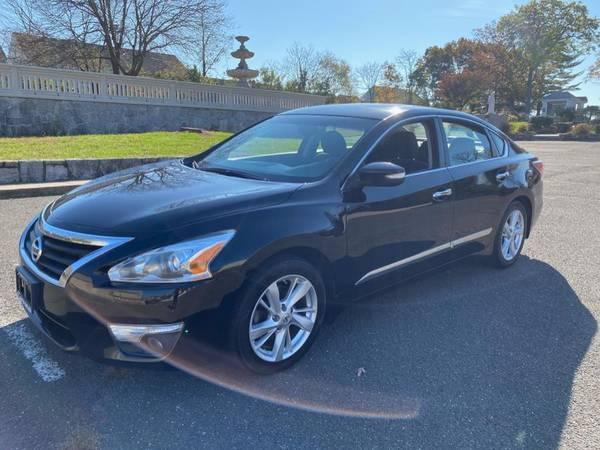Front_Bumper: (13, 238, 244, 372)
Front_Fender: (134, 170, 344, 309)
Front_Left_Door: (337, 168, 452, 298)
Front_Left_Window: (342, 117, 446, 185)
Front_Windshield: (186, 111, 376, 185)
Grille: (17, 201, 130, 286)
Hood: (45, 158, 300, 241)
Left_Headlight: (106, 229, 236, 286)
Rear_Bumper: (531, 191, 543, 229)
Rear_Fender: (507, 141, 543, 207)
Rear_Left_Door: (449, 151, 509, 257)
Rear_Left_Window: (441, 116, 507, 164)
Roof: (284, 101, 506, 182)
Wheel: (236, 255, 327, 372), (494, 203, 530, 264)
